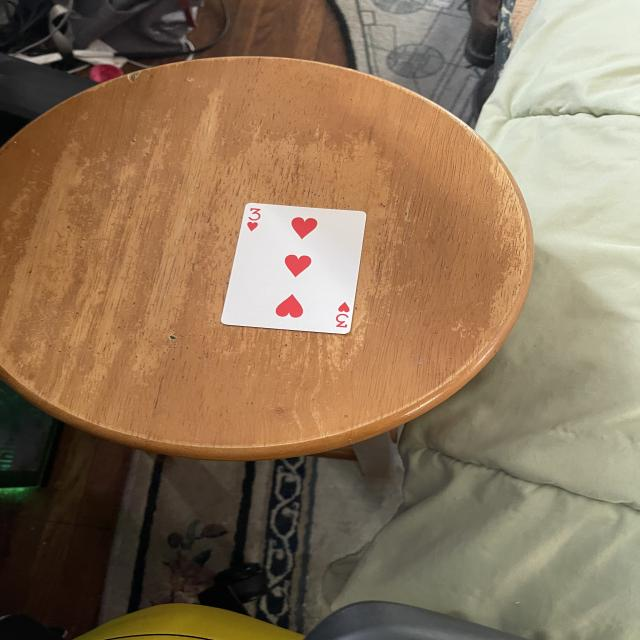3 of hearts: (218, 200, 368, 337)
